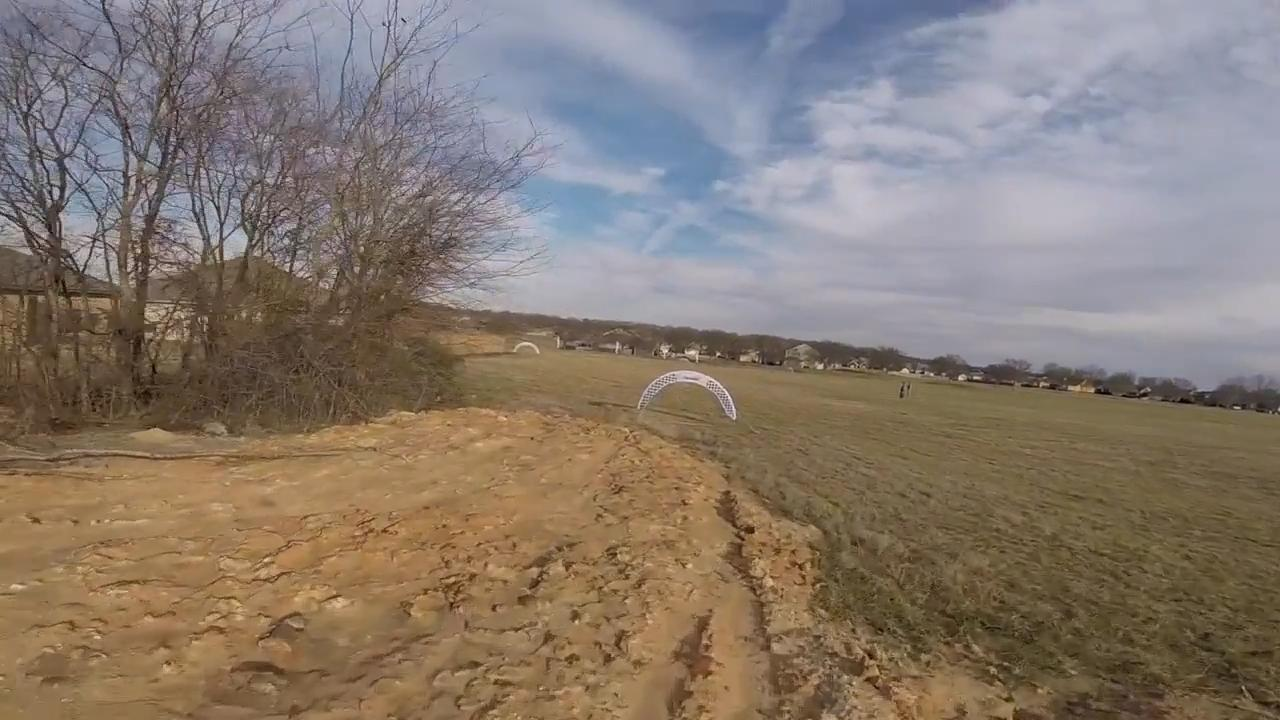gate: (635, 370, 735, 421)
